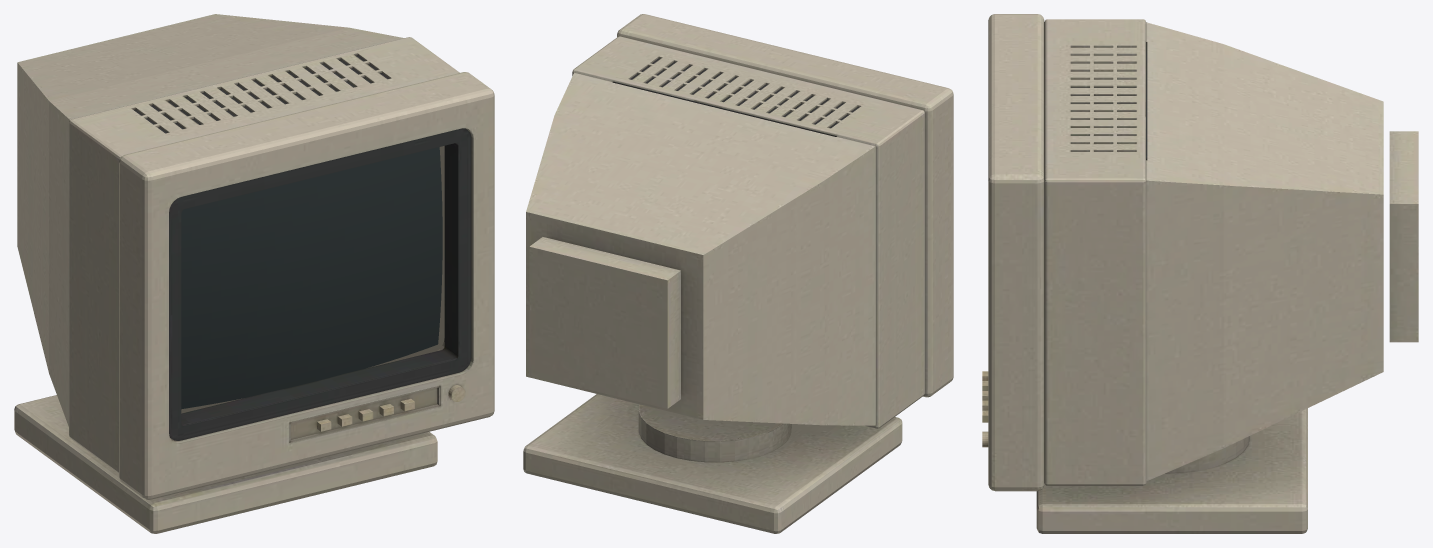
File: crt-e.glb
3 views of the same model, side by side, from view 1: azimuth 30°, elevation 25°; view 2: azimuth 150°, elevation 25°; view 3: azimuth 270°, elevation 25° (orthographic). The views are drawn at different scales.
Visible parts, largest first — view 1: case-baked, screen-glass; view 2: case-baked; view 3: case-baked.
Boxes of the visible parts, x1,y1,x2,y2 form: case-baked: (14, 14, 494, 533); screen-glass: (181, 147, 442, 409); case-baked: (523, 14, 953, 533); case-baked: (982, 14, 1418, 533).
Size of the model in its own units: 0.404 by 0.426 by 0.45.
2 materials, 1 textured.
